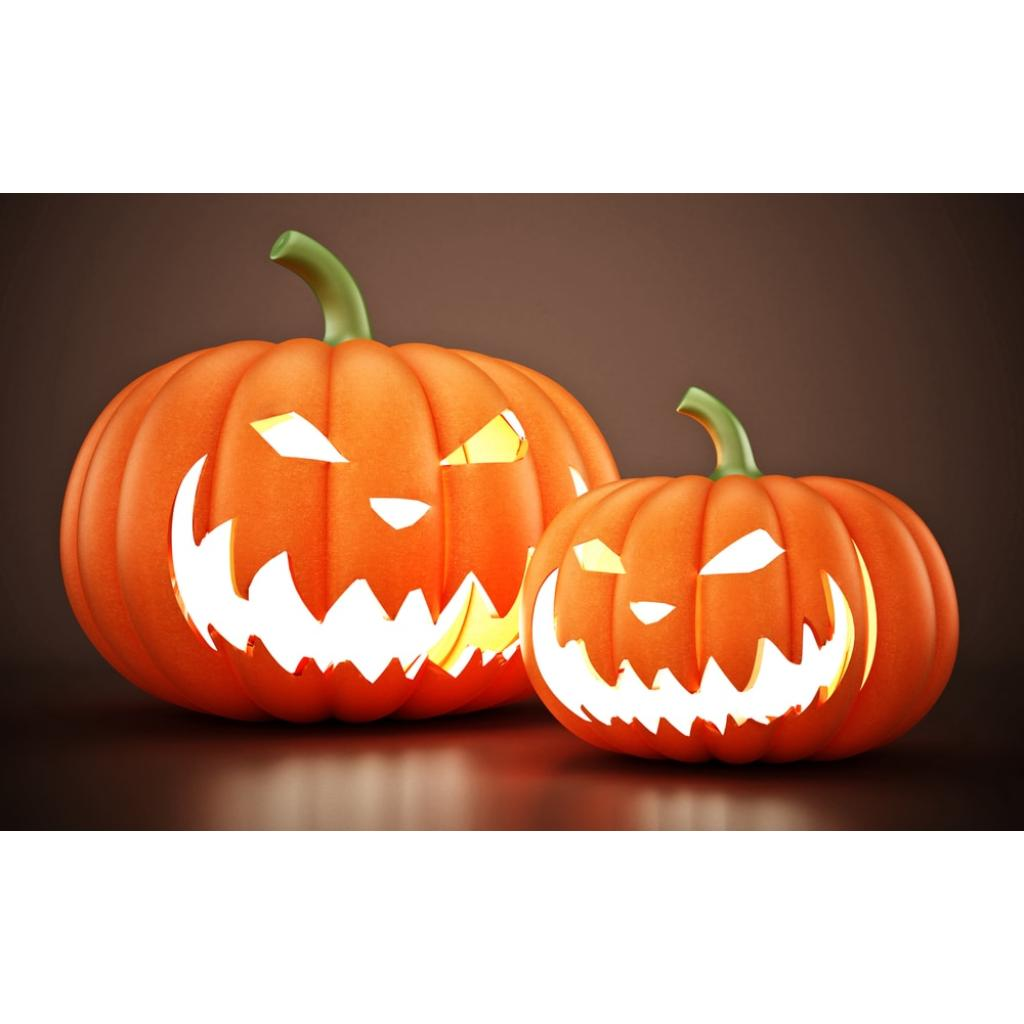pumpkin: (60, 233, 618, 723), (520, 389, 958, 764)
